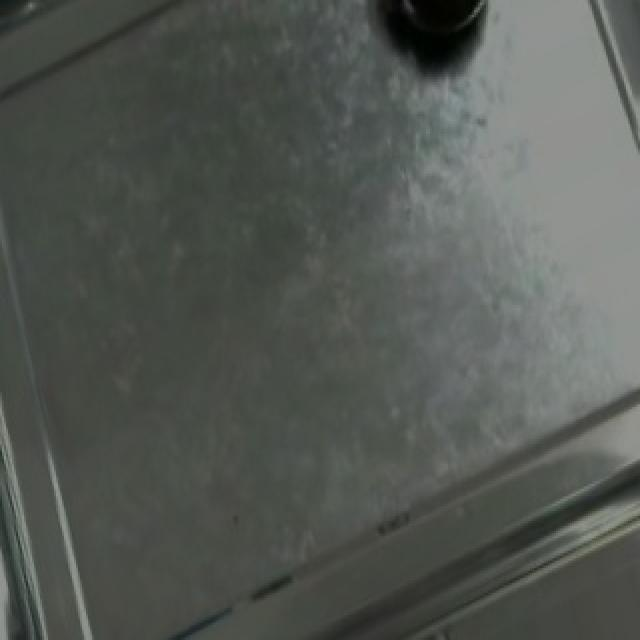Fruit: (374, 0, 508, 74)
